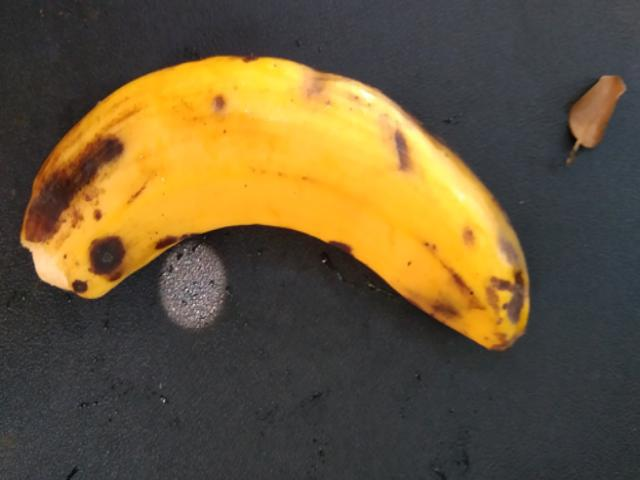overripe: (16, 21, 562, 366)
